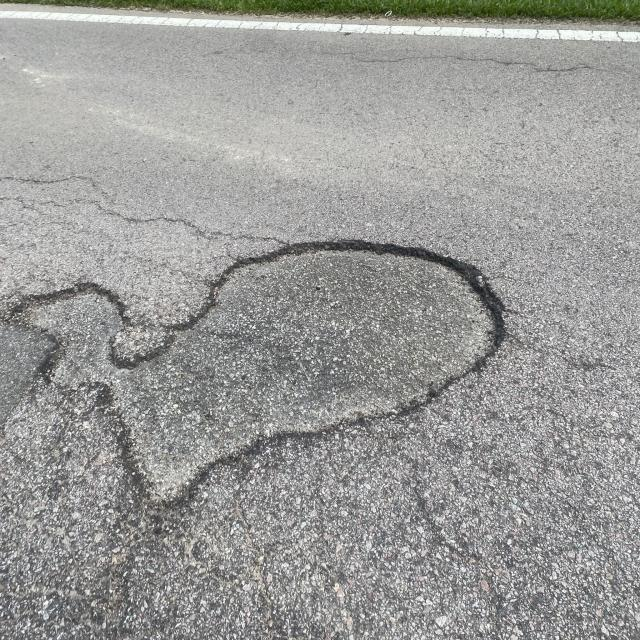Pothole: (31, 207, 640, 584)
